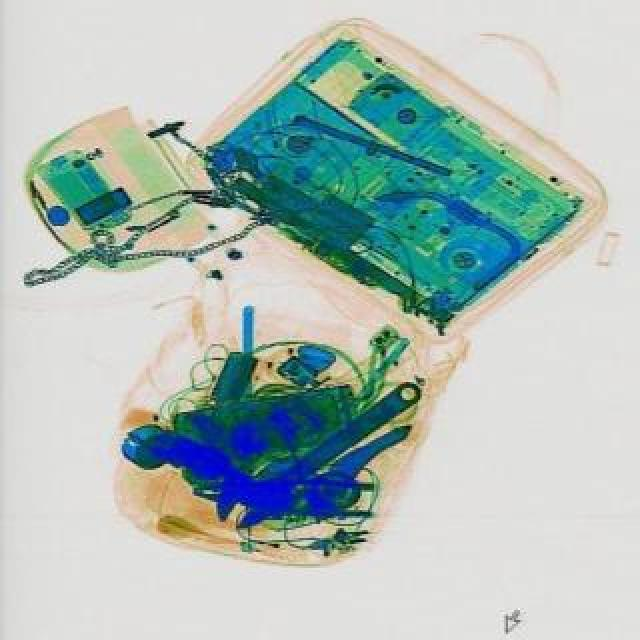scissors: (202, 366, 434, 542)
wrench: (192, 478, 372, 520)
